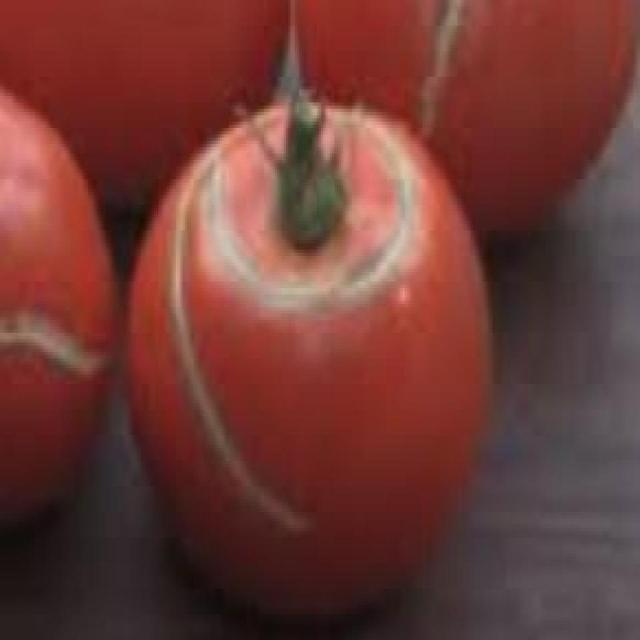Cracking Fruit: (37, 53, 292, 263)
